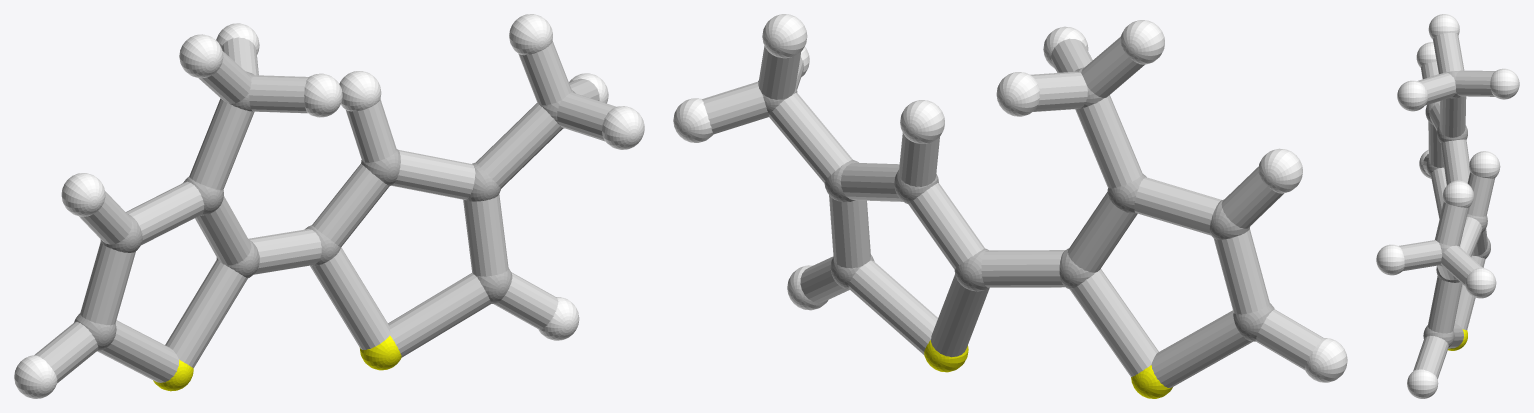
Rendered from Methylthiophene_Phi_25_Theta_170_Methylthiophene.glb.
3 renders of one model, left to right at view 1: azimuth 30°, elevation 25°; view 2: azimuth 150°, elevation 25°; view 3: azimuth 270°, elevation 25°, orthographic. The views are drawn at different scales.
Visible parts, largest first — view 1: grp7965, grp3621, grp1, grp7241; view 2: grp7965, grp3621, grp1, grp7241; view 3: grp7965, grp3621, grp1.
Part boxes in pixels (x1,y1,x2,y2): grp7965: [34, 37, 616, 383]; grp3621: [14, 14, 644, 398]; grp1: [74, 71, 575, 350]; grp7241: [153, 335, 401, 391]; grp7965: [702, 36, 1323, 387]; grp3621: [673, 14, 1347, 382]; grp1: [758, 67, 1274, 341]; grp7241: [924, 340, 1172, 398]; grp7965: [1399, 32, 1495, 378]; grp3621: [1376, 14, 1519, 398]; grp1: [1423, 71, 1490, 347].
Bounding box in the file's own units: 9.76 × 5.73 × 2.76.
